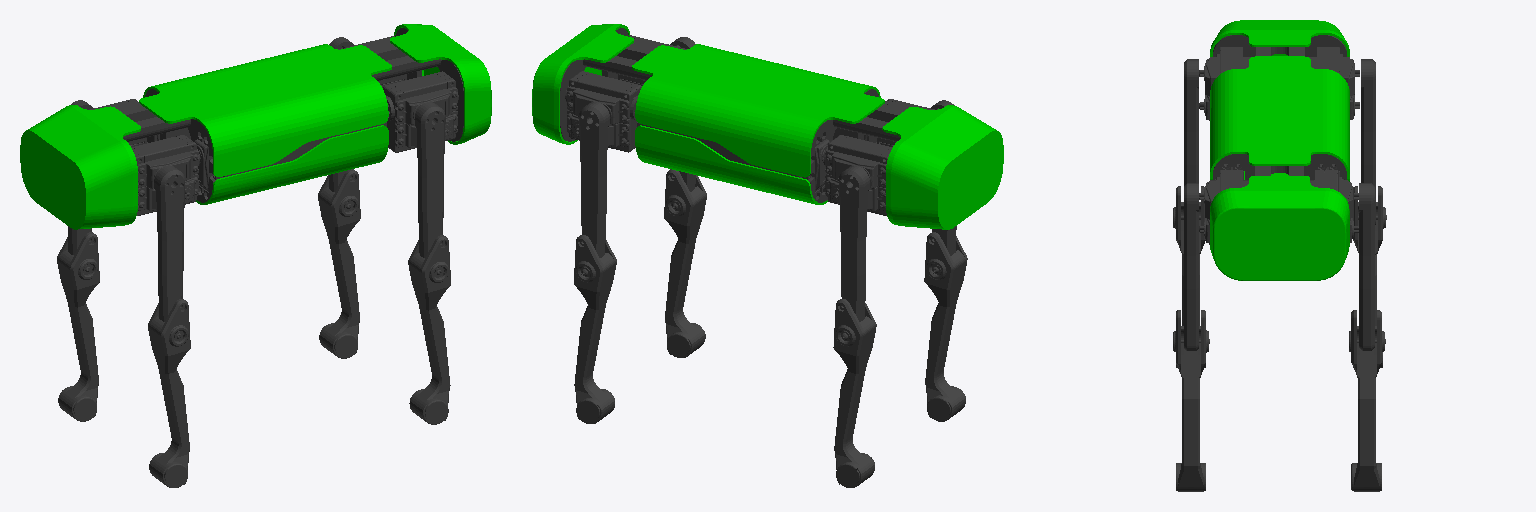
URDF robot description (Dog):
<?xml version="1.0"?>
<robot name="Dog">
	<material name="blue">
		<color rgba="0 0 0.8 1" />
	</material>
	<material name="yellow">
		<color rgba="1 1 0 1" />
	</material>
	<material name="green">
		<color rgba="0 0.85 0 1" />
	</material>
	<material name="black">
		<color rgba="0.3 0.3 0.3 1" />
	</material>
	<material name="grey">
		<color rgba="0.6 0.6 0.5 1" />
	</material>
	<link name="base_link">
		<visual>
			<geometry>
				<mesh filename="Simulation\URDF\frame.obj" />
			</geometry>
			<origin rpy="0 0 3.141" xyz="0 0 0.0" />
			<material name="black" />
		</visual>
		<inertial>
			<mass value="1.5" />
			<inertia ixx="0" ixy="0" ixz="0" iyy="0" iyz="0" izz="0" />
		</inertial>
	</link>
	<!-- shell -->
	<link name="frame">
		<visual>
			<geometry>
				<mesh filename="Simulation\URDF\shell.obj" />
			</geometry>
			<origin rpy="0 0 3.141" xyz="0 0 0" />
			<material name="green" />
		</visual>
		<inertial>
			<mass value="0.025" />
			<inertia ixx="0.4" ixy="0.4" ixz="0.4" iyy="0.4" iyz="0.4" izz="0.4" />
		</inertial>
		<collision>
			<geometry>
				<mesh filename="Simulation\URDF\shell.obj" />
			</geometry>
			<origin rpy="0 0 3.141" xyz="0 0 0.0" />
		</collision>
	</link>
	<joint name="base_to_frame" type="fixed">
		<parent link="base_link" />
		<child link="frame" />
		<origin xyz="0 0 0" />
	</joint>
	<!-- lf shoulder -->
	<link name="lf_shoulder">
		<visual>
			<geometry>
				<mesh filename="Simulation\URDF\lf shoulder.obj" />
			</geometry>
			<origin rpy="3.141 3.141 0" xyz="0 0 0" />
			<material name="black" />
		</visual>
		<inertial>
			<mass value="0.025" />
			<inertia ixx="0.4" ixy="0.4" ixz="0.4" iyy="0.4" iyz="0.4" izz="0.4" />
		</inertial>
	</link>
	<joint name="lf_shoulder" type="continuous">
		<parent link="base_link" />
		<child link="lf_shoulder" />
		<origin xyz="0.090 0.037 0" />
		<axis xyz="1 0 0" />
	</joint>
	<link name="lf_thigh">
		<visual>
			<geometry>
				<mesh filename="Simulation\URDF\femur.obj" />
			</geometry>
			<origin rpy="1.5708 0 1.5708" xyz="0 0 0" />
			<material name="black" />
		</visual>
		<inertial>
			<mass value="0.025" />
			<inertia ixx="0.4" ixy="0.4" ixz="0.4" iyy="0.4" iyz="0.4" izz="0.4" />
		</inertial>
	</link>
	<joint name="lf_thigh" type="continuous">
		<parent link="lf_shoulder" />
		<child link="lf_thigh" />
		<origin xyz="0.025 0.027 0 " />
		<axis xyz="0 1 0" />
	</joint>
	<link name="lf_shin">
		<visual>
			<geometry>
				<mesh filename="Simulation\URDF\tibia.obj" />
			</geometry>
			<origin rpy="0.610865 0 -1.5708" xyz="0 0.008 0" />
			<material name="black" />
		</visual>
		<inertial>
			<mass value="0.025" />
			<inertia ixx="0.4" ixy="0.4" ixz="0.4" iyy="0.4" iyz="0.4" izz="0.4" />
		</inertial>
		<collision>
			<geometry>
				<mesh filename="Simulation\URDF\tibia.obj" />
			</geometry>
			<origin rpy="0.610865 0 -1.5708" xyz="0 0.008 0" />
		</collision>
	</link>
	<joint name="lf_shin" type="continuous">
		<parent link="lf_thigh" />
		<child link="lf_shin" />
		<origin xyz="0 0 -0.130 " />
		<axis xyz="0 1 0" />
	</joint>
	<!-- rf shoulder -->
	<link name="rf_shoulder">
		<visual>
			<geometry>
				<mesh filename="Simulation\URDF\rf shoulder.obj" />
			</geometry>
			<origin rpy="0 0 3.141" xyz="0 0 0" />
			<material name="black" />
		</visual>
		<inertial>
			<mass value="0.025" />
			<inertia ixx="0.4" ixy="0.4" ixz="0.4" iyy="0.4" iyz="0.4" izz="0.4" />
		</inertial>
	</link>
	<joint name="rf_shoulder" type="continuous">
		<parent link="base_link" />
		<child link="rf_shoulder" />
		<origin xyz="0.090 -0.040 0" />
		<axis xyz="1 0 0" />
	</joint>
	<link name="rf_thigh">
		<visual>
			<geometry>
				<mesh filename="Simulation\URDF\femur.obj" />
			</geometry>
			<origin rpy="4.71239 3.141 1.5708" xyz="0 0 0" />
			<material name="black" />
		</visual>
		<inertial>
			<mass value="0.025" />
			<inertia ixx="0.4" ixy="0.4" ixz="0.4" iyy="0.4" iyz="0.4" izz="0.4" />
		</inertial>
	</link>
	<joint name="rf_thigh" type="continuous">
		<parent link="rf_shoulder" />
		<child link="rf_thigh" />
		<origin xyz="0.025 -0.027 0 " />
		<axis xyz="0 1 0" />
	</joint>
	<link name="rf_shin">
		<visual>
			<geometry>
				<mesh filename="Simulation\URDF\tibia.obj" />
			</geometry>
			<origin rpy="0.610865 0 -1.5708" xyz="0 -0.0045 0" />
			<material name="black" />
		</visual>
		<inertial>
			<mass value="0.025" />
			<inertia ixx="0.4" ixy="0.4" ixz="0.4" iyy="0.4" iyz="0.4" izz="0.4" />
		</inertial>
		<collision>
			<geometry>
				<mesh filename="Simulation\URDF\tibia.obj" />
			</geometry>
			<origin rpy="0.610865 0 -1.5708" xyz="0 -0.007 0" />
		</collision>
	</link>
	<joint name="rf_shin" type="continuous">
		<parent link="rf_thigh" />
		<child link="rf_shin" />
		<origin xyz="0 0 -0.130 " />
		<axis xyz="0 1 0" />
	</joint>
	<!-- lb shoulder -->
	<link name="lb_shoulder">
		<visual>
			<geometry>
				<mesh filename="Simulation\URDF\lb shoulder.obj" />
			</geometry>
			<origin rpy="3.141 3.141 0" xyz="0 0 0" />
			<material name="black" />
		</visual>
		<inertial>
			<mass value="0.025" />
			<inertia ixx="0.4" ixy="0.4" ixz="0.4" iyy="0.4" iyz="0.4" izz="0.4" />
		</inertial>
	</link>
	<joint name="lb_shoulder" type="continuous">
		<parent link="base_link" />
		<child link="lb_shoulder" />
		<origin xyz="-0.081 0.038 0" />
		<axis xyz="1 0 0" />
	</joint>
	<link name="lb_thigh">
		<visual>
			<geometry>
				<mesh filename="Simulation\URDF\femur.obj" />
			</geometry>
			<origin rpy="1.5708 0 1.5708" xyz="0 0 0" />
			<material name="black" />
		</visual>
		<inertial>
			<mass value="0.025" />
			<inertia ixx="0.4" ixy="0.4" ixz="0.4" iyy="0.4" iyz="0.4" izz="0.4" />
		</inertial>
	</link>
	<joint name="lb_thigh" type="continuous">
		<parent link="lb_shoulder" />
		<child link="lb_thigh" />
		<origin xyz="-0.043 0.027 0 " />
		<axis xyz="0 1 0" />
	</joint>
	<link name="lb_shin">
		<visual>
			<geometry>
				<mesh filename="Simulation\URDF\tibia.obj" />
			</geometry>
			<origin rpy="0.610865 0 -1.5708" xyz="0 0.008 0" />
			<material name="black" />
		</visual>
		<inertial>
			<mass value="0.025" />
			<inertia ixx="0.4" ixy="0.4" ixz="0.4" iyy="0.4" iyz="0.4" izz="0.4" />
		</inertial>
		<collision>
			<geometry>
				<mesh filename="Simulation\URDF\tibia.obj" />
			</geometry>
			<origin rpy="0.610865 0 -1.5708" xyz="0 0.008 0" />
		</collision>
	</link>
	<joint name="lb_shin" type="continuous">
		<parent link="lb_thigh" />
		<child link="lb_shin" />
		<origin xyz="0 0 -0.130 " />
		<axis xyz="0 1 0" />
	</joint>
	<!-- rb arm -->
	<link name="rb_shoulder">
		<visual>
			<geometry>
				<mesh filename="Simulation\URDF\rb shoulder.obj" />
			</geometry>
			<origin rpy="3.141 3.141 0" xyz="0 0 0" />
			<material name="black" />
		</visual>
		<inertial>
			<mass value="0.025" />
			<inertia ixx="0.4" ixy="0.4" ixz="0.4" iyy="0.4" iyz="0.4" izz="0.4" />
		</inertial>
	</link>
	<joint name="rb_shoulder" type="continuous">
		<parent link="base_link" />
		<child link="rb_shoulder" />
		<origin xyz="-0.081 -0.040 0" />
		<axis xyz="1 0 0" />
	</joint>
	<link name="rb_thigh">
		<visual>
			<geometry>
				<mesh filename="Simulation\URDF\femur.obj" />
			</geometry>
			<origin rpy="4.71239 3.141 1.5708" xyz="0 0 0" />
			<material name="black" />
		</visual>
		<inertial>
			<mass value="0.025" />
			<inertia ixx="0.4" ixy="0.4" ixz="0.4" iyy="0.4" iyz="0.4" izz="0.4" />
		</inertial>
	</link>
	<joint name="rb_thigh" type="continuous">
		<parent link="rb_shoulder" />
		<child link="rb_thigh" />
		<origin xyz="-0.043 -0.027 0 " />
		<axis xyz="0 1 0" />
	</joint>
	<link name="rb_shin">
		<visual>
			<geometry>
				<mesh filename="Simulation\URDF\tibia.obj" />
			</geometry>
			<origin rpy="0.610865 0 -1.5708" xyz="0 -0.0045 0" />
			<material name="black" />
		</visual>
		<inertial>
			<mass value="0.025" />
			<inertia ixx="0.4" ixy="0.4" ixz="0.4" iyy="0.4" iyz="0.4" izz="0.4" />
		</inertial>
		<collision>
			<geometry>
				<mesh filename="Simulation\URDF\tibia.obj" />
			</geometry>
			<origin rpy="0.610865 0 -1.5708" xyz="0 -0.007 0" />
		</collision>
	</link>
	<joint name="rb_shin" type="continuous">
		<parent link="rb_thigh" />
		<child link="rb_shin" />
		<origin xyz="0 0 -0.130 " />
		<axis xyz="0 1 0" />
	</joint>
</robot>

--- What the picture shows (computed from the rendered views, not written in the file) ---
The picture shows the robot from 3 angles, left to right: view 1: azimuth 30°, elevation 25°; view 2: azimuth 150°, elevation 25°; view 3: azimuth 270°, elevation 25°; orthographic projection.
Model Dog with 14 links and 13 joints (12 continuous, 1 fixed), rooted at base_link, posed every joint at zero.
Links seen in each view (by area): view 1: frame, base_link, lf_shin, lb_shin, rf_shin, rb_shin, rb_thigh, rf_thigh, rf_shoulder, rb_shoulder; view 2: frame, base_link, rb_shin, lb_shin, lf_shin, rf_shin, lf_thigh, lb_thigh, lf_shoulder, lb_shoulder; view 3: frame, lf_shin, rf_shin, base_link, lf_thigh, rf_thigh, lb_thigh, rb_thigh, rb_shoulder, lb_shoulder, rf_shoulder, rb_shin (+2 smaller).
Link boxes in pixels (left/top/right/bottom): frame: left=20, top=24, right=491, bottom=229; base_link: left=118, top=28, right=463, bottom=202; lf_shin: left=318, top=169, right=360, bottom=358; lb_shin: left=57, top=232, right=99, bottom=421; rf_shin: left=408, top=235, right=450, bottom=424; rb_shin: left=148, top=299, right=190, bottom=487; rb_thigh: left=154, top=166, right=184, bottom=321; rf_thigh: left=415, top=102, right=445, bottom=257; rf_shoulder: left=383, top=71, right=457, bottom=152; rb_shoulder: left=131, top=135, right=199, bottom=215; frame: left=532, top=24, right=1003, bottom=229; base_link: left=560, top=28, right=904, bottom=202; rb_shin: left=924, top=232, right=967, bottom=421; lb_shin: left=833, top=299, right=876, bottom=487; lf_shin: left=574, top=235, right=616, bottom=423; rf_shin: left=664, top=169, right=706, bottom=357; lf_thigh: left=579, top=102, right=609, bottom=257; lb_thigh: left=839, top=166, right=869, bottom=321; lf_shoulder: left=567, top=71, right=641, bottom=152; lb_shoulder: left=824, top=135, right=892, bottom=215; frame: left=1210, top=20, right=1349, bottom=280; lf_shin: left=1349, top=310, right=1385, bottom=491; rf_shin: left=1173, top=310, right=1209, bottom=491; base_link: left=1213, top=35, right=1346, bottom=179; lf_thigh: left=1359, top=183, right=1374, bottom=350; rf_thigh: left=1184, top=183, right=1198, bottom=350; lb_thigh: left=1361, top=59, right=1375, bottom=224; rb_thigh: left=1184, top=59, right=1198, bottom=185; rb_shoulder: left=1199, top=47, right=1250, bottom=120; lb_shoulder: left=1309, top=47, right=1359, bottom=119; rf_shoulder: left=1199, top=170, right=1248, bottom=244; rb_shin: left=1173, top=186, right=1205, bottom=367.
Size in the robot's own frame: 0.3716 by 0.1749 by 0.2913 metres.
Meshes: 8 distinct files referenced, 14 mesh visuals loaded (8 OBJ).